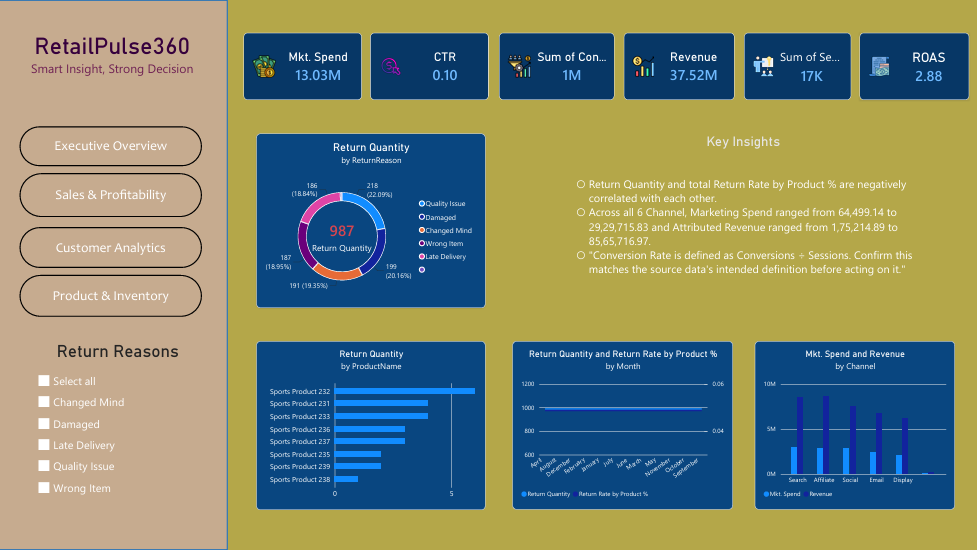

The dashboard page shown, as its layout file describes it:
{"tool":"powerbi","page":{"name":"Marketing & Operations - 05","canvas":[1920,1080],"ordinal":4},"visuals":[{"type":"barChart","fields":{"Category":["DimProduct.ProductName"],"Y":["FactReturns.Return Quantity"]},"box":[504.9,669.6,450,332.5],"z":0},{"type":"donutChart","fields":{"Category":["FactReturns.ReturnReason"],"Y":["FactReturns.Return Quantity"]},"box":[504.9,262.2,450,342.5],"z":1000},{"type":"lineChart","fields":{"Category":["DimDate.Month"],"Y":["FactReturns.Return Quantity"],"Y2":["Budget.Return Rate by Product %"]},"box":[1007.7,669.6,433.4,331.6],"z":2000},{"type":"cardVisual","fields":{"Data":["FactMarketing.Attributed Revenue"]},"box":[1226.7,63.8,216.9,131.8],"z":3000},{"type":"cardVisual","fields":{"Data":["FactMarketing.ROAS"]},"box":[1690.2,63.8,214.7,131.8],"z":4000},{"type":"cardVisual","fields":{"Data":["FactMarketing.Click-through Rate"]},"box":[729.2,63.8,231.7,131.8],"z":5000},{"type":"clusteredColumnChart","fields":{"Category":["FactMarketing.Channel"],"Y":["FactMarketing.Marketing Spend","FactMarketing.Attributed Revenue"]},"box":[1484.4,669.6,392.2,331.6],"z":6000},{"type":"cardVisual","fields":{"Data":["Sum(FactWebsiteTraffic.Sessions)"]},"box":[1462.7,63.8,210.5,131.8],"z":7000},{"type":"cardVisual","fields":{"Data":["Sum(FactMarketing.Conversions)"]},"box":[982.2,63.8,225.4,131.8],"z":8000},{"type":"shape","box":[0,0,447.5,1080],"z":9000},{"type":"textbox","title":"Key Insights","box":[1061.9,262.2,799.4,408.2],"z":10000},{"type":"cardVisual","fields":{"Data":["FactMarketing.Marketing Spend"]},"box":[480.5,63.8,231.7,131.8],"z":11000},{"type":"textbox","title":"RetailPulse360","box":[26.7,63.3,390,130],"z":12000},{"type":"actionButton","box":[40,248,358,78],"z":13000},{"type":"actionButton","box":[40,340,358,86],"z":14000},{"type":"actionButton","box":[40,446,358,80],"z":15000},{"type":"actionButton","box":[40,540,358,82],"z":16000},{"type":"slicer","title":"Return Reasons","fields":{"Values":["FactReturns.ReturnReason"]},"box":[69.3,669.6,327.2,377.1],"z":17000}]}

Visuals, with their boxes in screenshot pixels (x1, y1, x2, y2), scaled from the page's 1920x1080 canvas onto the 978x550 screenshot:
barChart - DimProduct.ProductName x FactReturns.Return Quantity: <box>257,341,486,510</box>
donutChart - FactReturns.ReturnReason x FactReturns.Return Quantity: <box>257,134,486,308</box>
lineChart - DimDate.Month x FactReturns.Return Quantity: <box>513,341,734,510</box>
cardVisual - FactMarketing.Attributed Revenue: <box>625,32,735,100</box>
cardVisual - FactMarketing.ROAS: <box>861,32,970,100</box>
cardVisual - FactMarketing.Click-through Rate: <box>371,32,489,100</box>
clusteredColumnChart - FactMarketing.Channel x FactMarketing.Marketing Spend: <box>756,341,956,510</box>
cardVisual - Sum(FactWebsiteTraffic.Sessions): <box>745,32,852,100</box>
cardVisual - Sum(FactMarketing.Conversions): <box>500,32,615,100</box>
shape: <box>0,0,228,549</box>
"Key Insights" textbox: <box>541,134,948,341</box>
cardVisual - FactMarketing.Marketing Spend: <box>245,32,363,100</box>
"RetailPulse360" textbox: <box>14,32,212,98</box>
actionButton: <box>20,126,203,166</box>
actionButton: <box>20,173,203,217</box>
actionButton: <box>20,227,203,268</box>
actionButton: <box>20,275,203,317</box>
"Return Reasons" slicer: <box>35,341,202,533</box>
